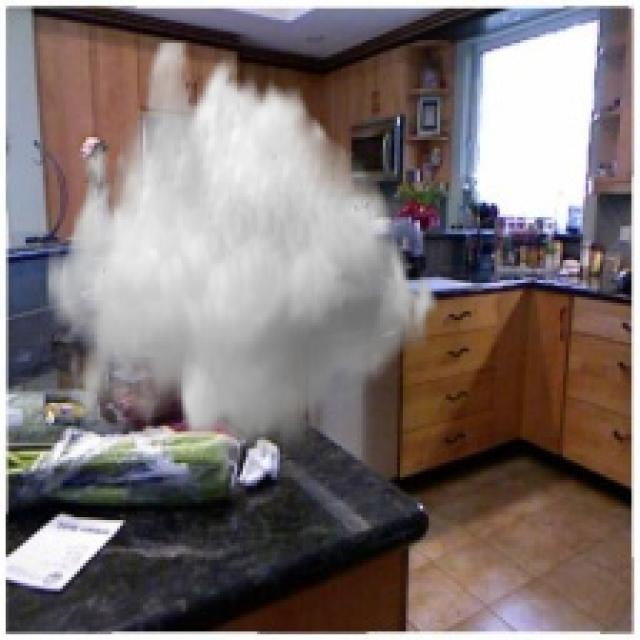smoke: (46, 40, 446, 457)
